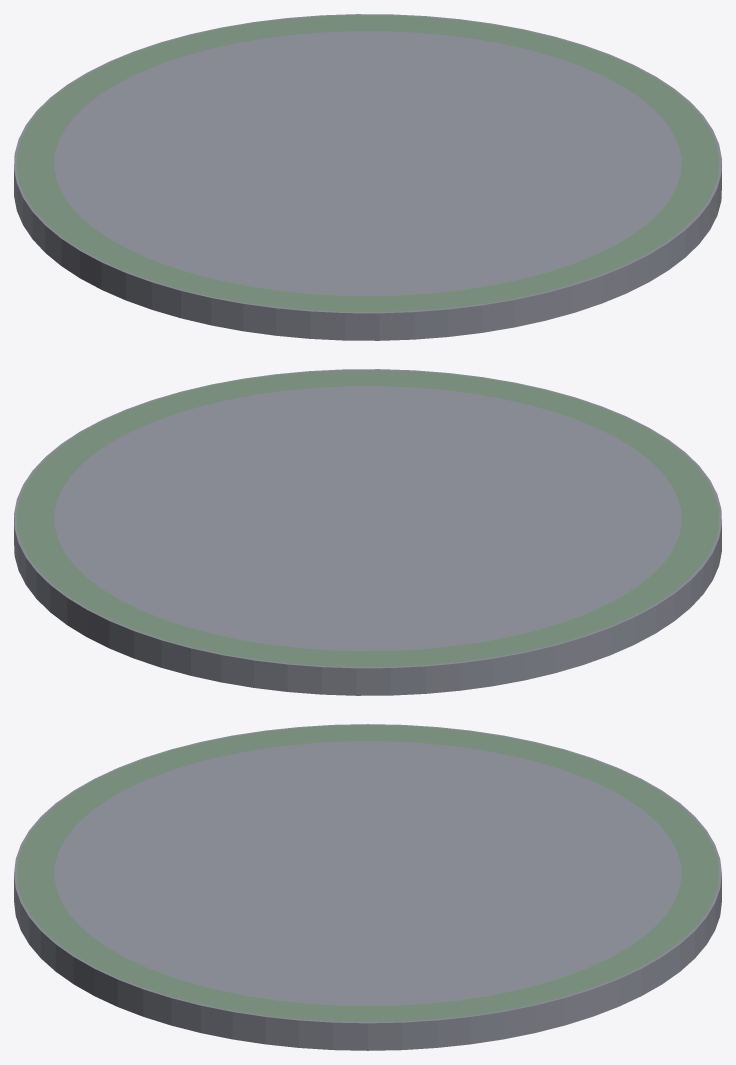
Rendered from platform.glb.
3 views of the same model, one above another, from view 1: azimuth 30°, elevation 25°; view 2: azimuth 150°, elevation 25°; view 3: azimuth 270°, elevation 25° (orthographic).
Parts seen in each view (by area): view 1: Platform; view 2: Platform; view 3: Platform.
Boxes of the visible parts, x1=… form: Platform: x1=14, y1=14, x2=721, y2=340; Platform: x1=14, y1=369, x2=721, y2=695; Platform: x1=14, y1=724, x2=721, y2=1050.
Size of the model in its own units: 14 by 0.601 by 14.
